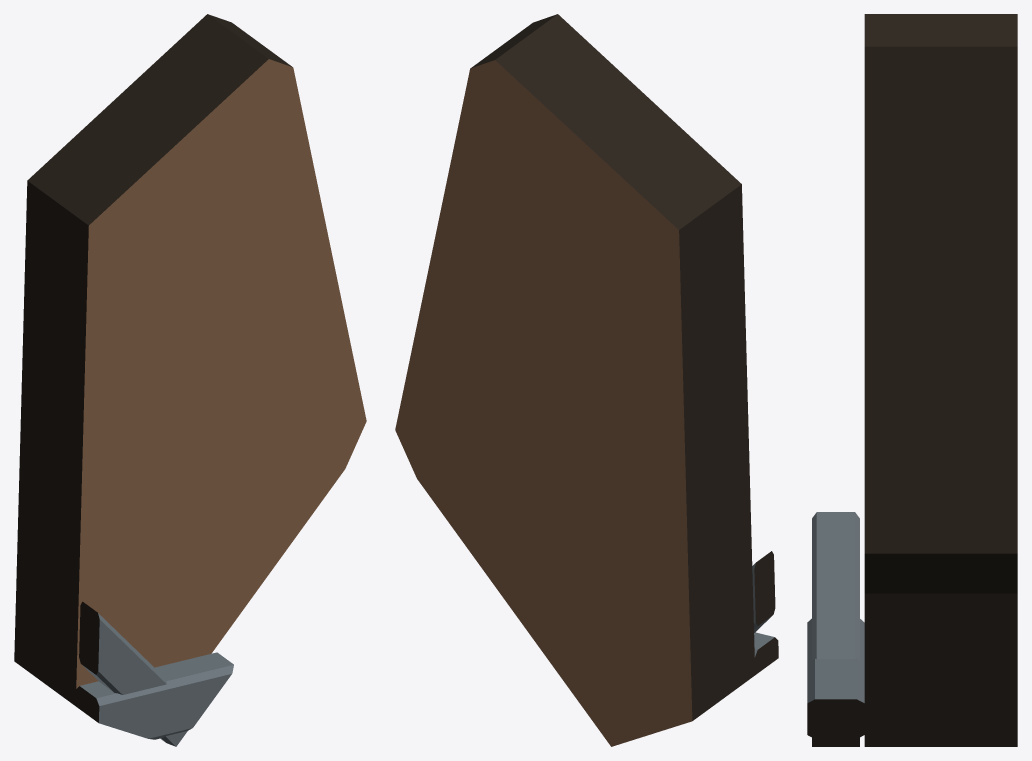
File: SM_DoorShard_03_19.fbx
The picture shows the model from 3 angles, left to right: view 1: azimuth 30°, elevation 25°; view 2: azimuth 150°, elevation 25°; view 3: azimuth 270°, elevation 25°; orthographic projection. The views are drawn at different scales.
Parts seen in each view (by area): view 1: SM_DoorShard_03_19; view 2: SM_DoorShard_03_19; view 3: SM_DoorShard_03_19.
Boxes of the visible parts, x1,y1,x2,y2 form: SM_DoorShard_03_19: [14, 14, 366, 746]; SM_DoorShard_03_19: [395, 14, 778, 746]; SM_DoorShard_03_19: [807, 14, 1017, 746].
Bounding box in the file's own units: 43.69 × 22 × 92.5.
